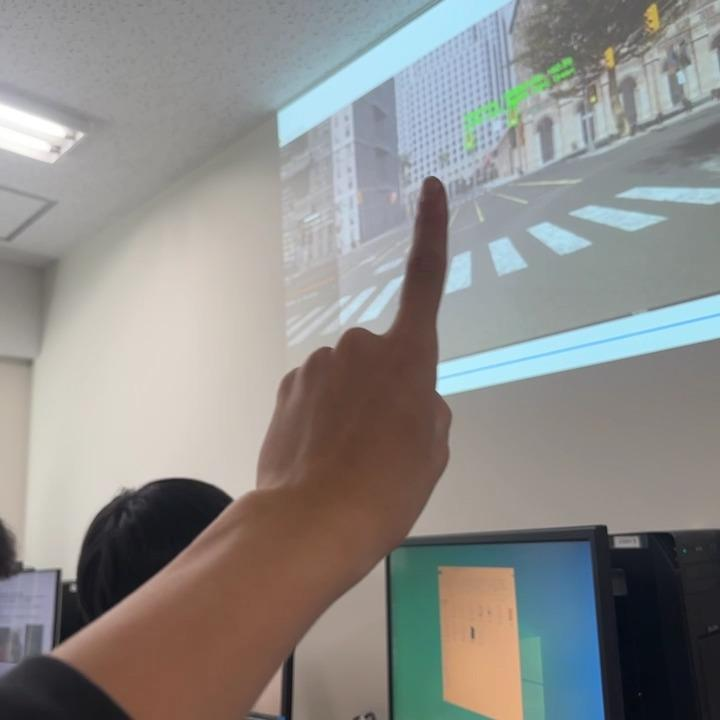without_gloves: (131, 110, 589, 630)
